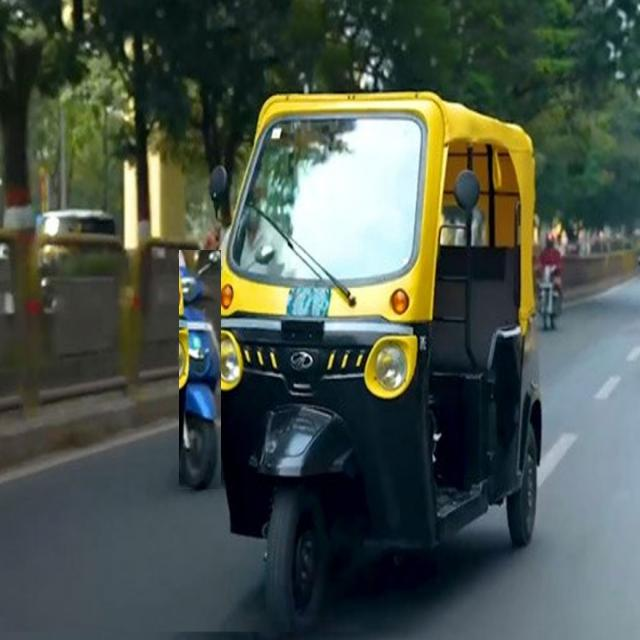autorickshaw: (211, 93, 541, 628)
motorcycle: (179, 250, 221, 489)
